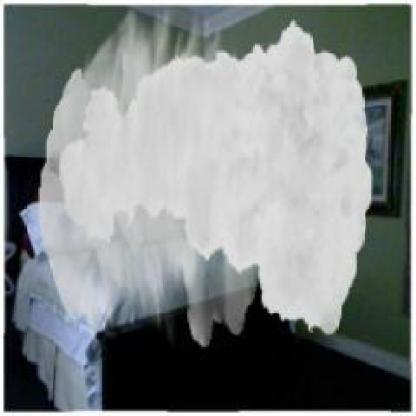Smoke: (39, 6, 374, 348)
